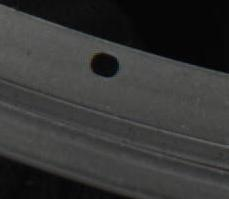holes: (89, 51, 119, 78)
